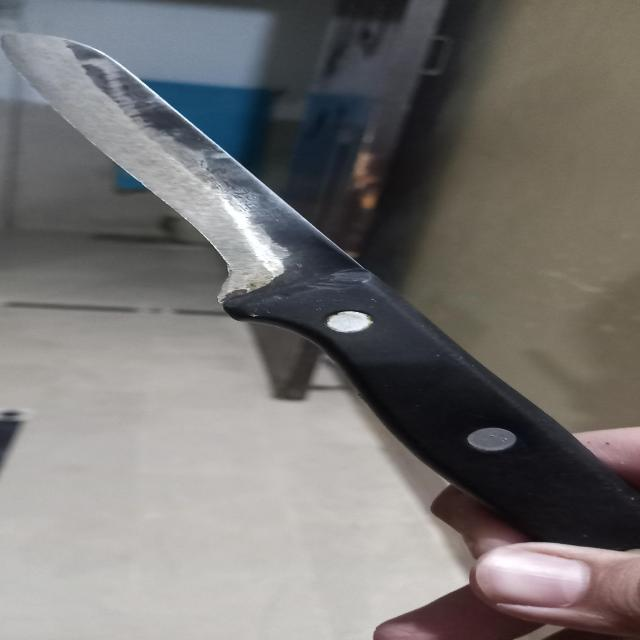Knife: (0, 30, 640, 551)
Person: (370, 418, 640, 640)
